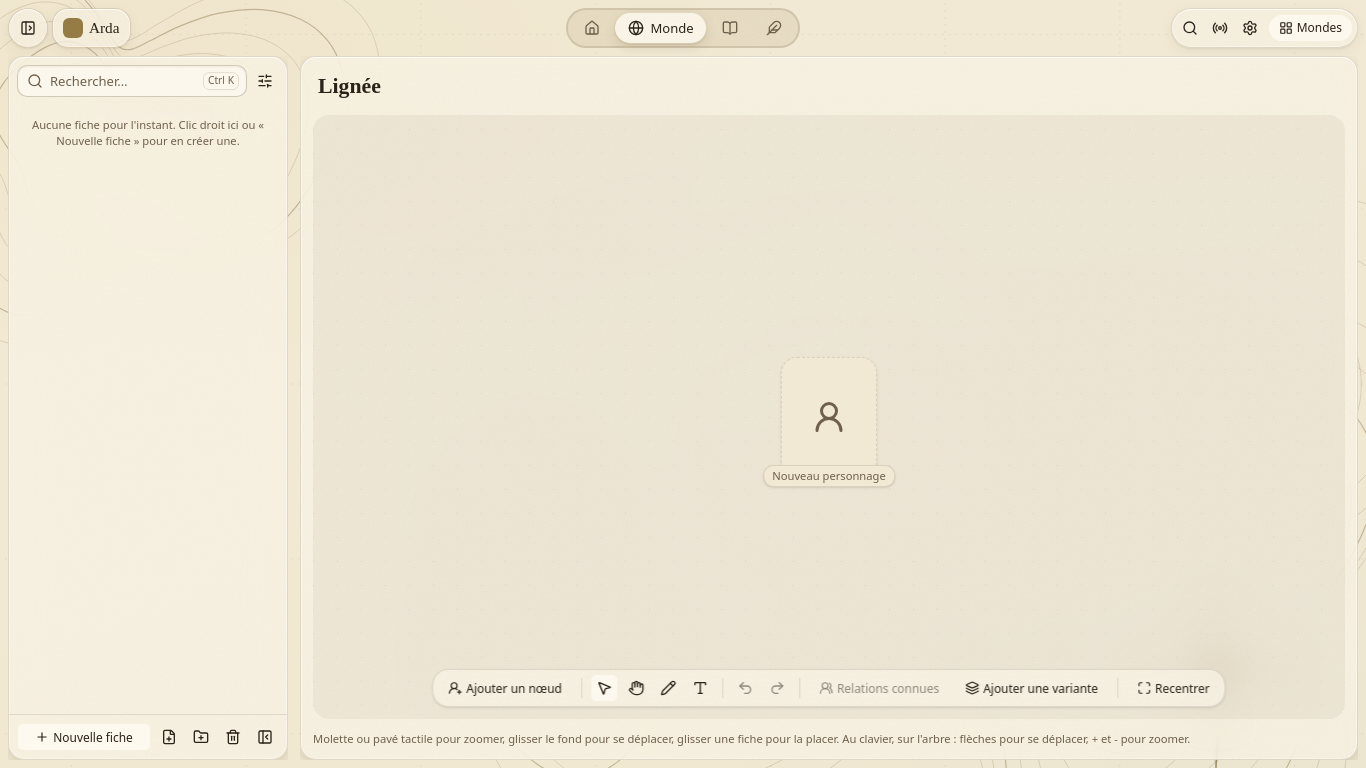
Test: clicking the empty node fills it with a card found by an alias, or with a plain name
The width and height of the screenshot is (1366, 768).
Click the text "Nouveau personnage" at coordinates (829, 476), box x1=763 y1=465 x2=895 y2=487
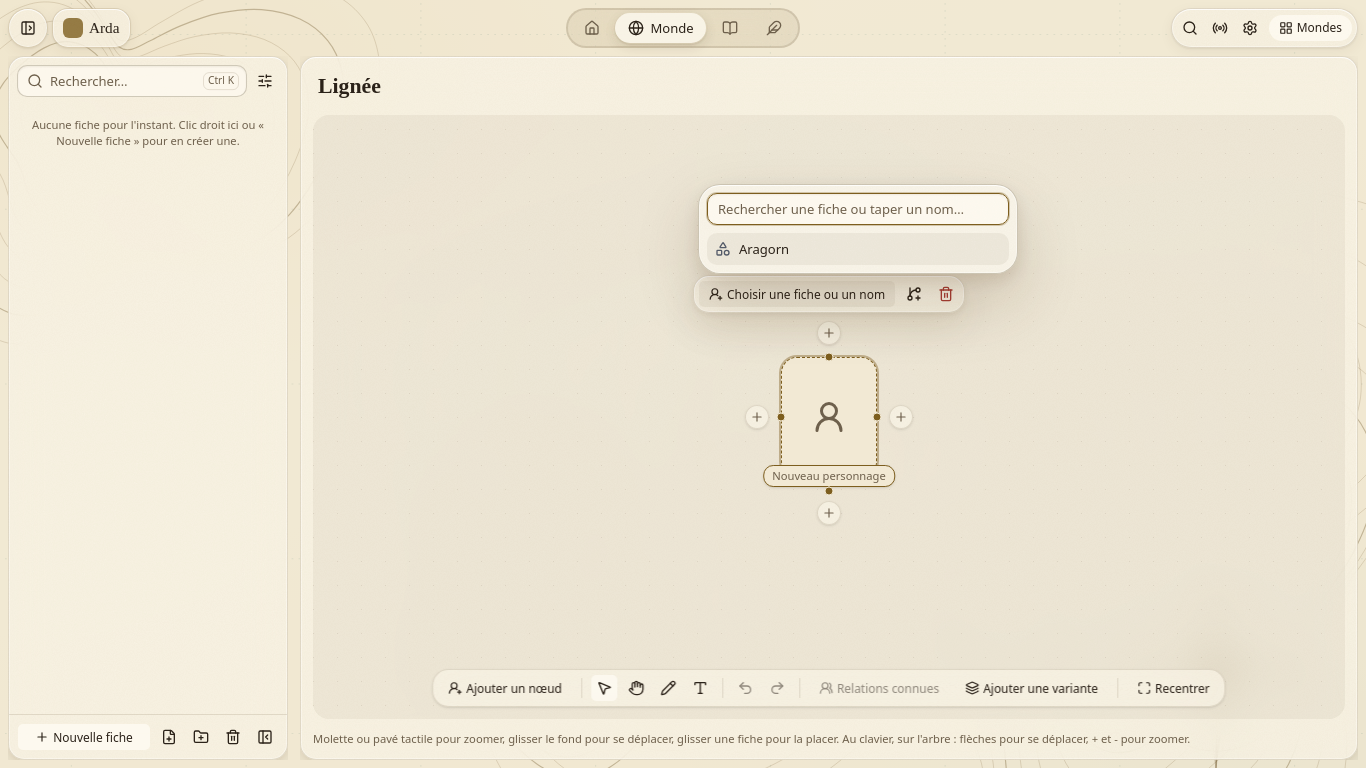
Type "grands" into the dropdown named "Fiche ou nom du nœud" at coordinates (858, 209), box x1=707 y1=193 x2=1009 y2=225
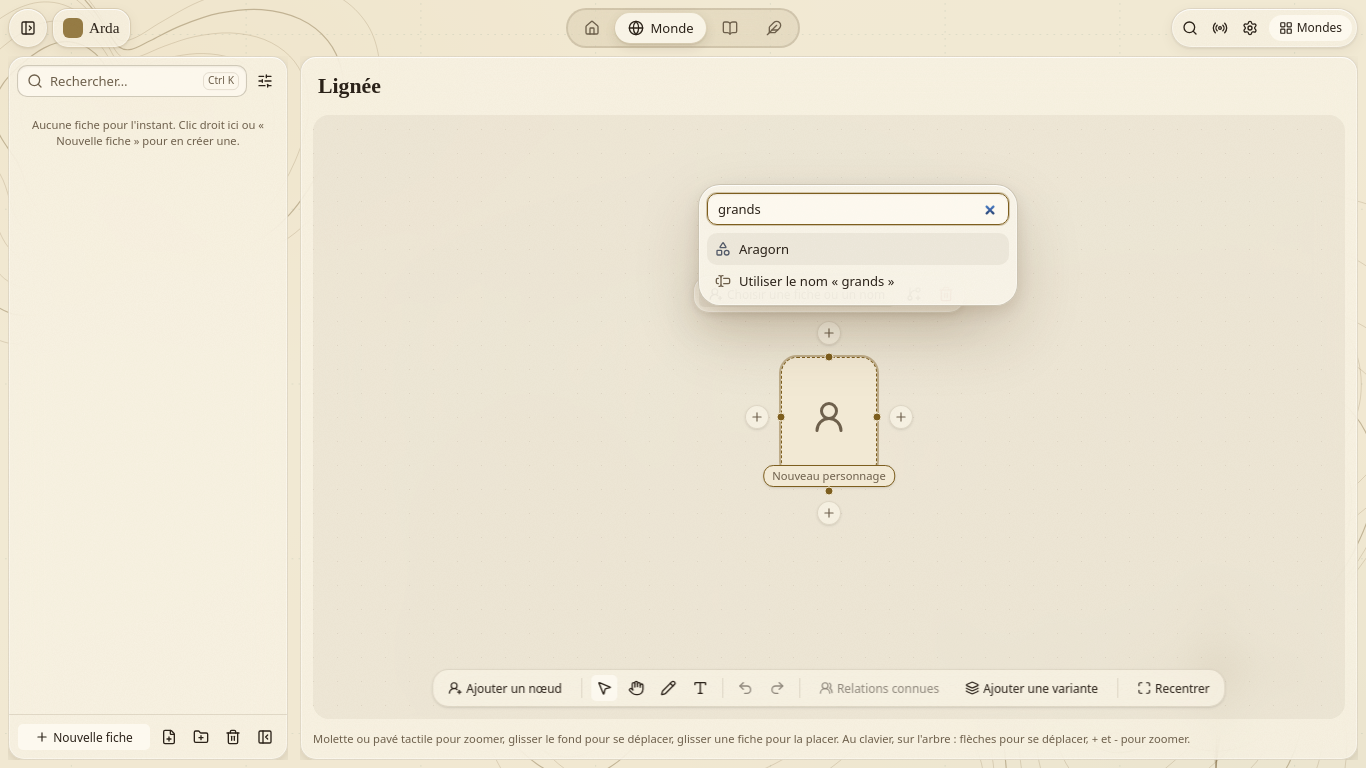
Press Enter in the dropdown named "Fiche ou nom du nœud", box x1=707 y1=193 x2=1009 y2=225
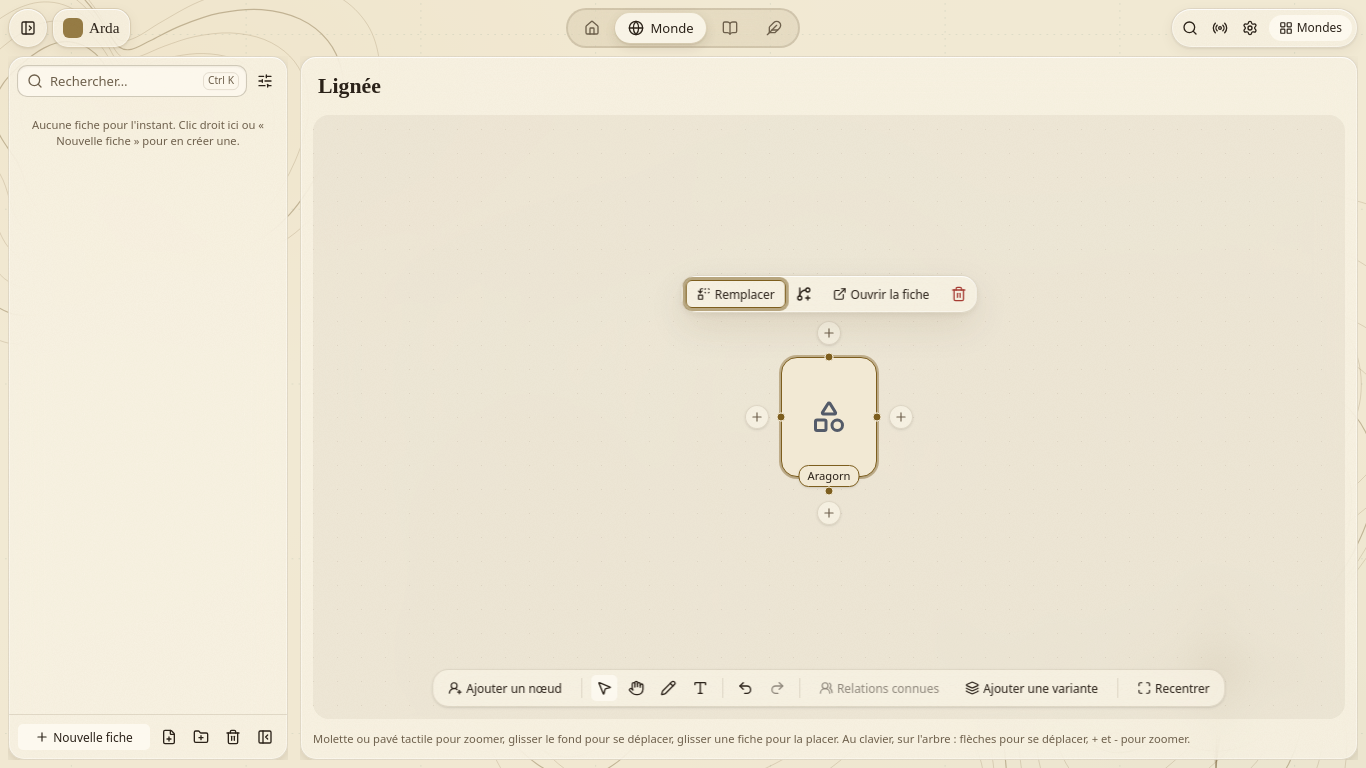
Expected: the text "Aragorn" is shown, x1=798 y1=465 x2=860 y2=487
The selected node's bar replaces it with a plain name.
Click the button "Remplacer" at coordinates (736, 294), box x1=686 y1=280 x2=786 y2=308
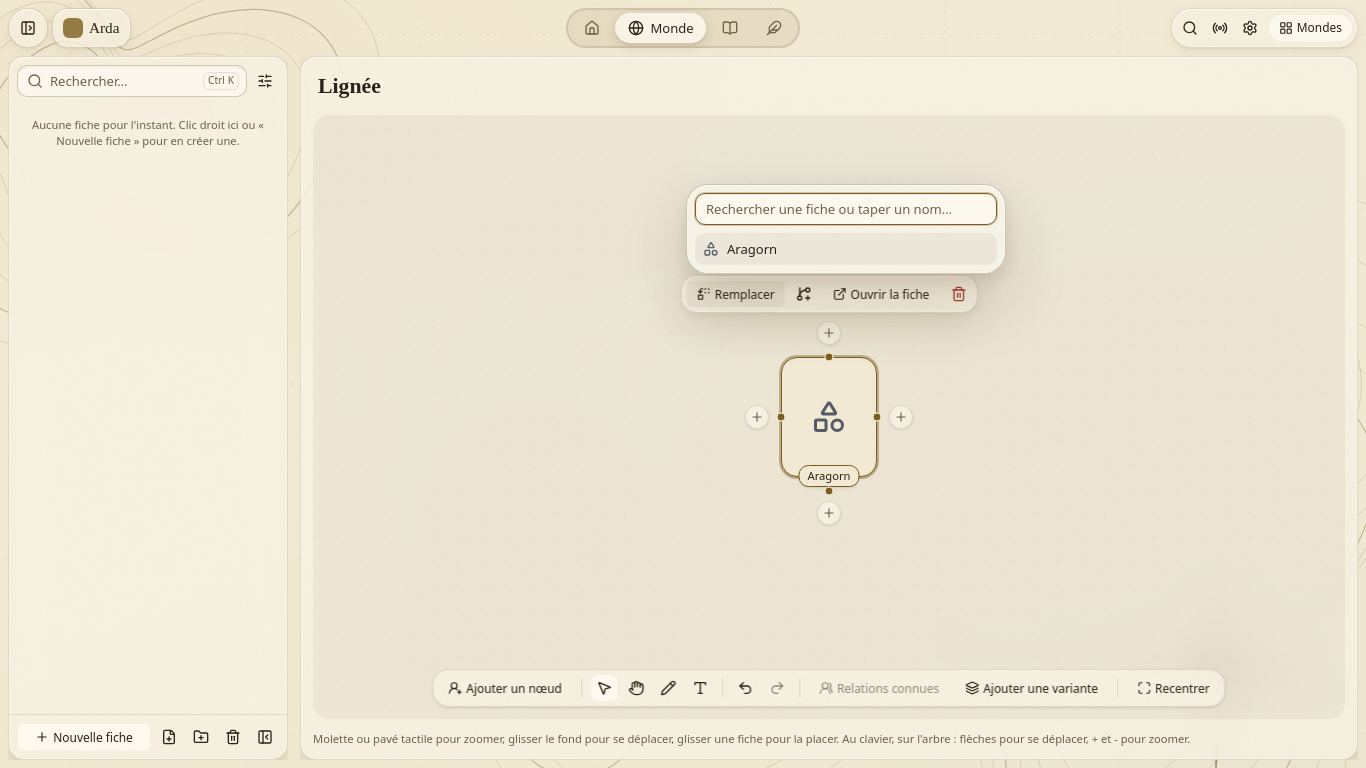
Type "Gilraen" into the dropdown named "Fiche ou nom du nœud" at coordinates (846, 209), box x1=695 y1=193 x2=997 y2=225
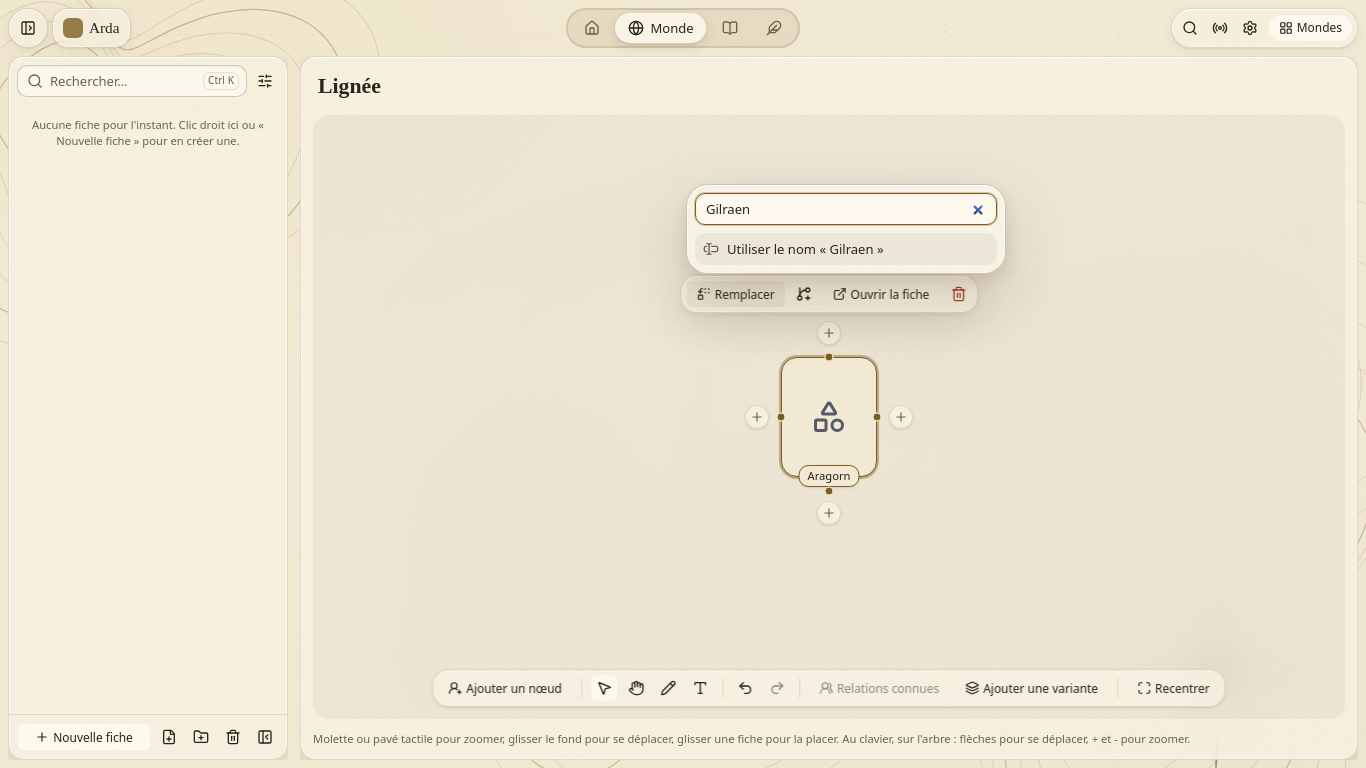
Click the option "Utiliser le nom « Gilraen »" at coordinates (846, 249), box x1=695 y1=233 x2=997 y2=265
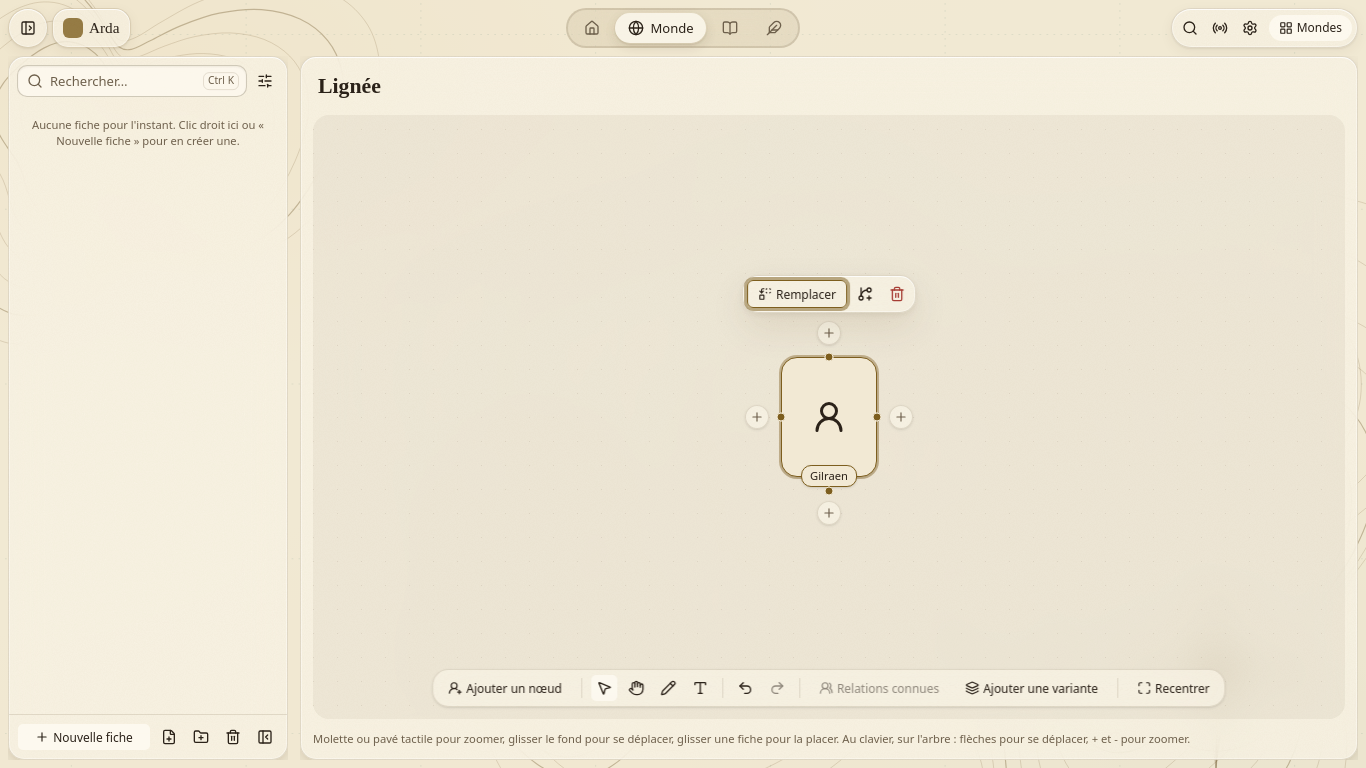
Expected: the text "Gilraen" is shown, x1=801 y1=465 x2=857 y2=487
